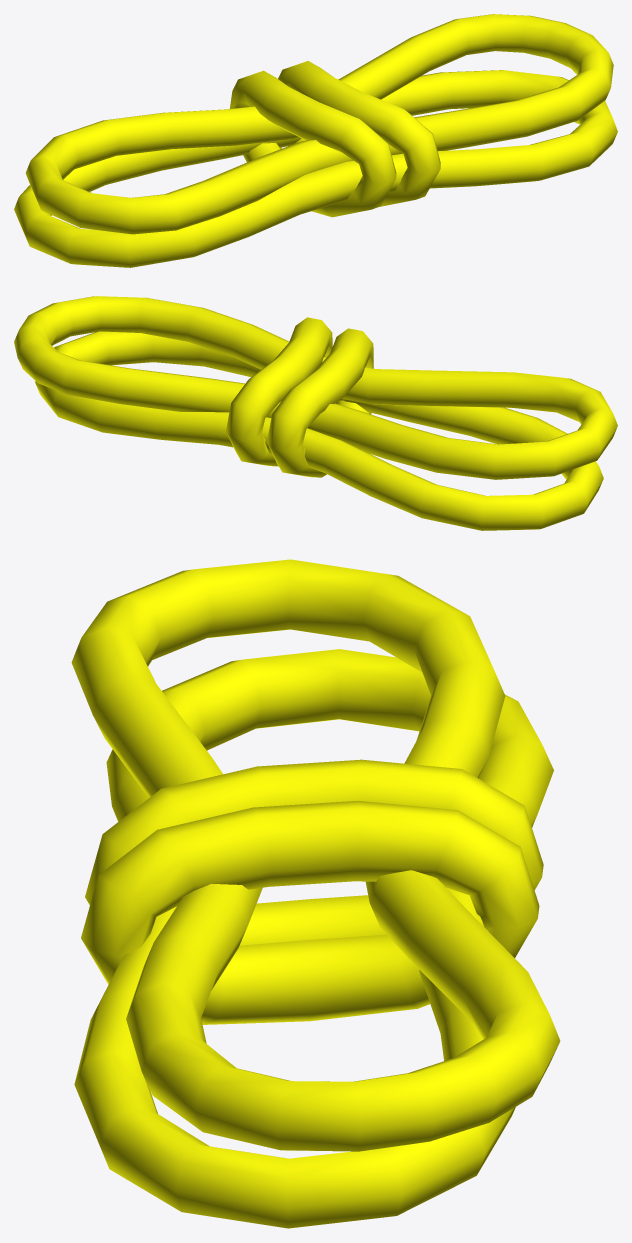
Rendered from kaykit-rope-bundle-a.glb.
3 renders of one model, top to bottom at view 1: azimuth 30°, elevation 25°; view 2: azimuth 150°, elevation 25°; view 3: azimuth 270°, elevation 25°, orthographic. The views are drawn at different scales.
Parts seen in each view (by area): view 1: rope_bundle_A; view 2: rope_bundle_A; view 3: rope_bundle_A.
Part boxes in pixels (x1,y1,x2,y2): rope_bundle_A: [14, 14, 617, 267]; rope_bundle_A: [14, 296, 617, 530]; rope_bundle_A: [71, 559, 560, 1228].
Bounding box in the file's own units: 1.39 × 0.2519 × 0.5269.
